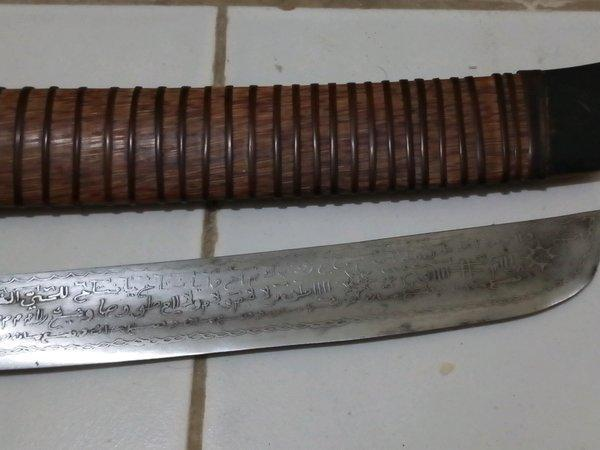facao: (0, 204, 600, 382)
